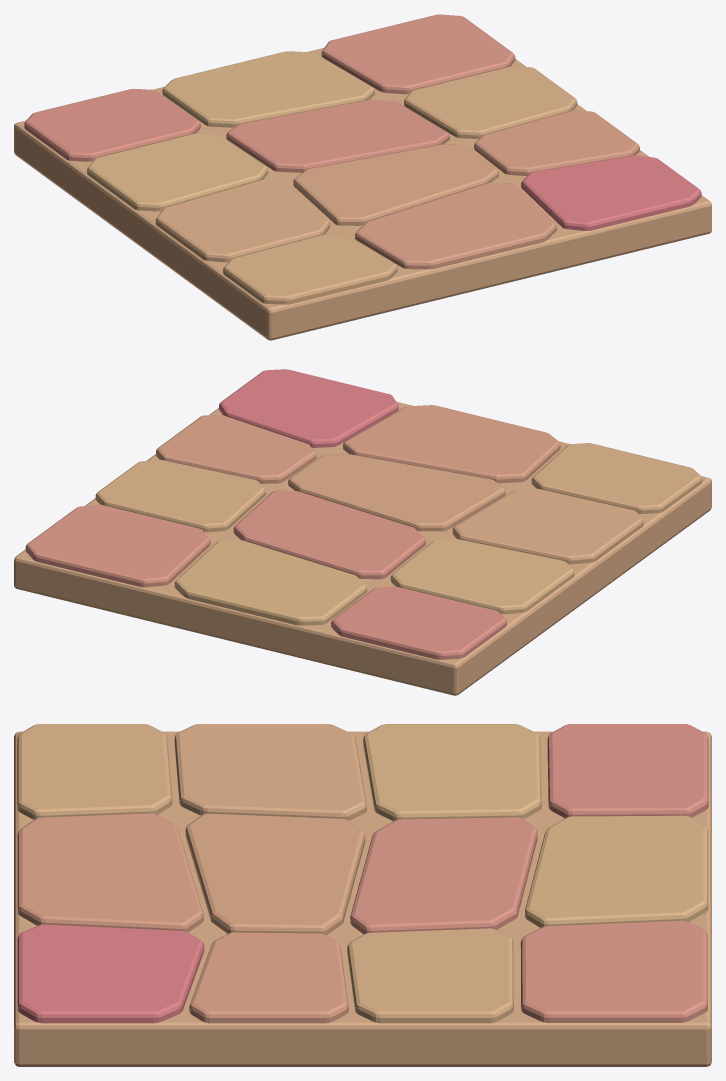
Rendered from WC_RIVER_Ground_Stone_A.glb.
3 views of the same model, one above another, from view 1: azimuth 30°, elevation 25°; view 2: azimuth 150°, elevation 25°; view 3: azimuth 270°, elevation 25° (orthographic). The views are drawn at different scales.
Parts seen in each view (by area): view 1: WC_RIVER_Ground_Stone_A_RenderMesh; view 2: WC_RIVER_Ground_Stone_A_RenderMesh; view 3: WC_RIVER_Ground_Stone_A_RenderMesh.
Part boxes in pixels (bbox=[...]): WC_RIVER_Ground_Stone_A_RenderMesh: bbox=[14, 14, 711, 340]; WC_RIVER_Ground_Stone_A_RenderMesh: bbox=[14, 369, 711, 695]; WC_RIVER_Ground_Stone_A_RenderMesh: bbox=[14, 724, 711, 1066].
Size of the model in its own units: 2 by 0.17 by 2.
